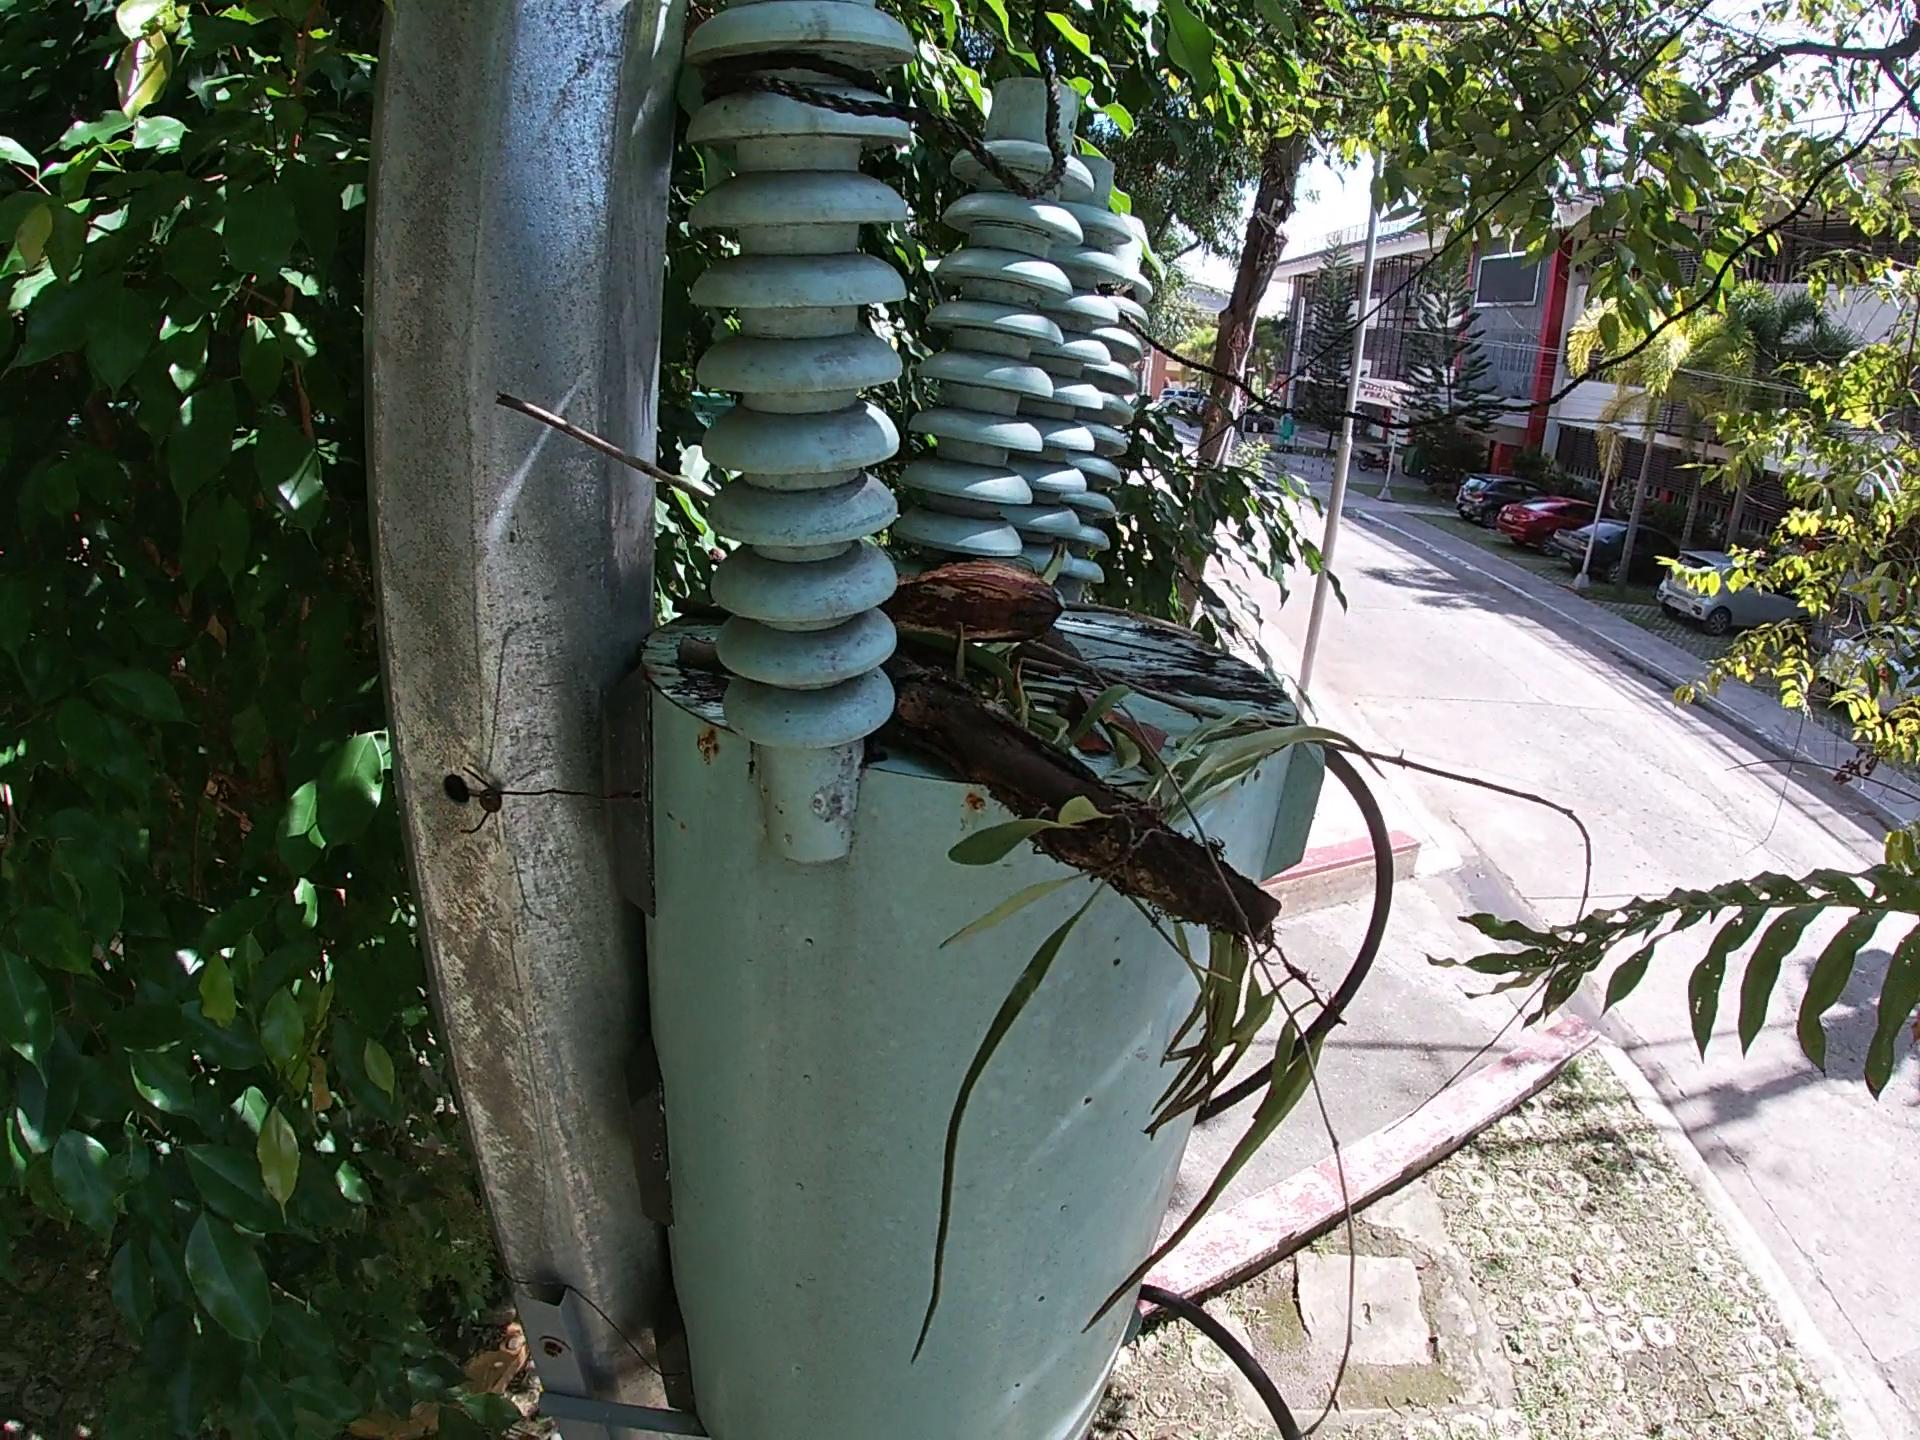branch with leaves: (768, 460, 1317, 976)
mahogany fruit: (794, 469, 918, 640)
tree branch: (588, 554, 1681, 947), (1028, 555, 1374, 693)
